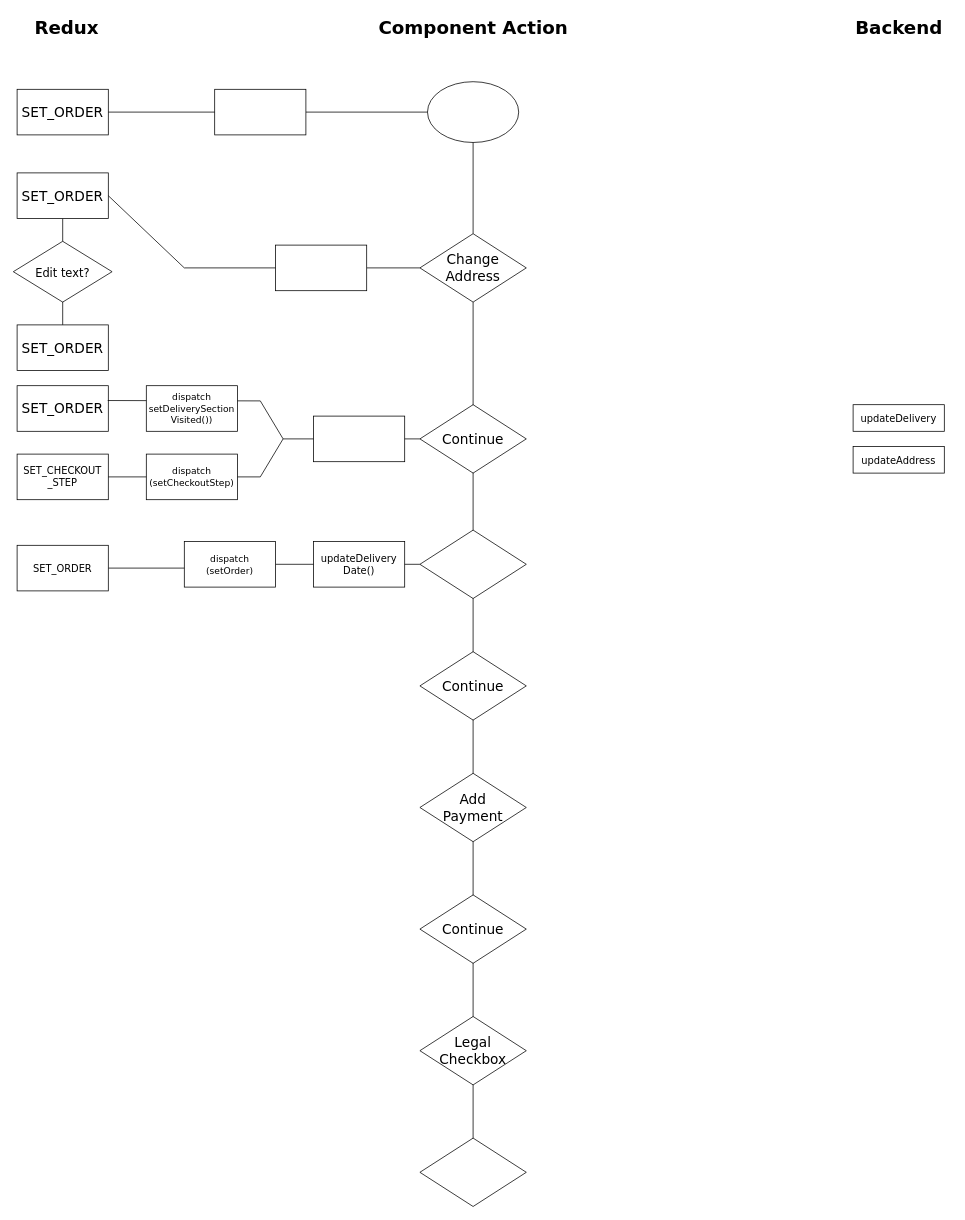
Image size: 965x1220. Some labels were removed from this diagram. Here are the shapes that lost their labels. From the top down, the box of each, then its label:
(214, 89, 306, 135): MapStateToProps
(427, 81, 519, 142): Checkout from Cart
(275, 244, 367, 291): dispatch (setOrder(order)
(313, 415, 405, 462): shippingAnd DeliveryHandler()
(419, 529, 526, 598): Change Date
(419, 1137, 526, 1206): Place Order
